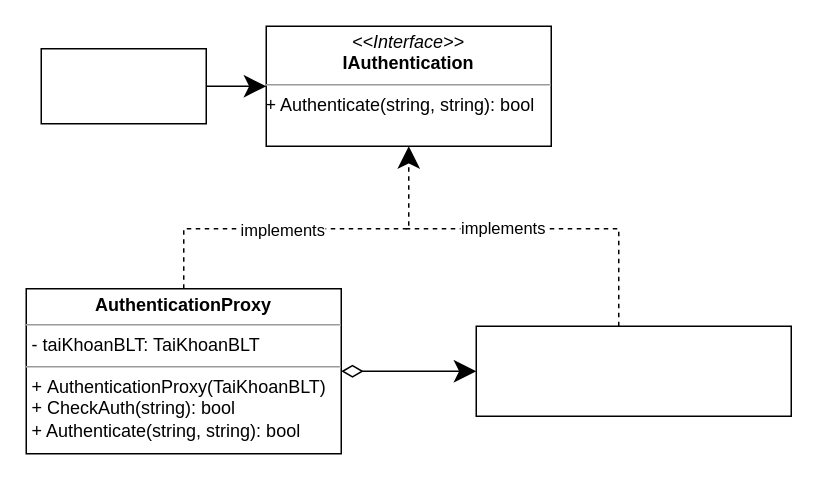
This 818x480 diagram has some shape labels left out. The box of each missing label's shape, as (x1, y1, x2, y2) in pixels:
Client: (40, 47, 206, 124)
TaiKhoanBLT + Authenticate(string, string): bool: (475, 325, 791, 416)
